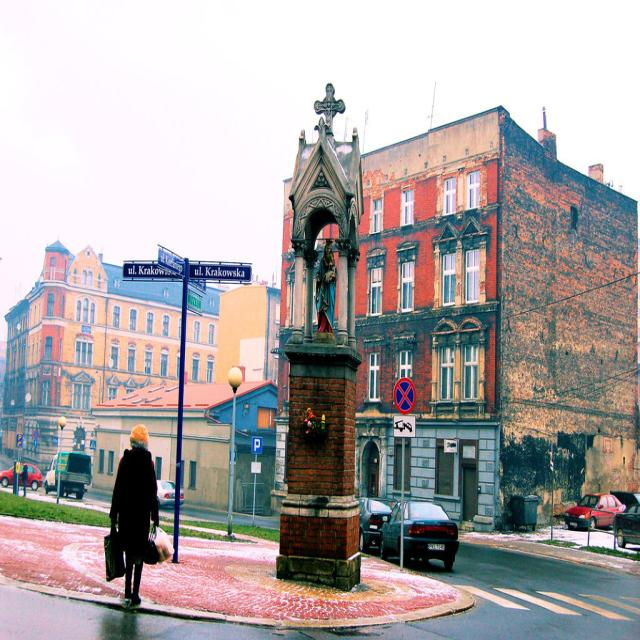car: (380, 495, 460, 570), (564, 490, 625, 525)
